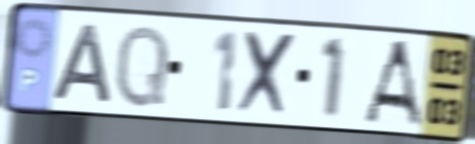1: (318, 35, 347, 122), (212, 29, 239, 116)
A: (360, 37, 425, 130), (47, 20, 115, 105)
Q: (112, 21, 172, 112)
X: (235, 28, 301, 121)
